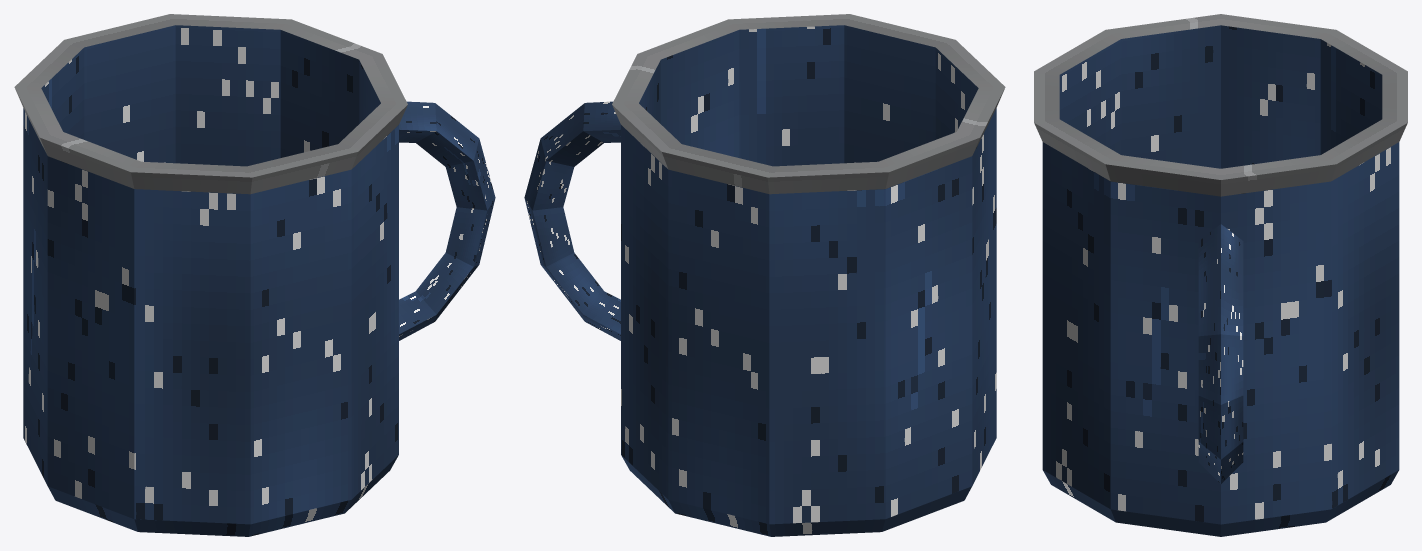
File: CAMP_Mug_01.glb
3 renders of one model, left to right at view 1: azimuth 30°, elevation 25°; view 2: azimuth 150°, elevation 25°; view 3: azimuth 270°, elevation 25°, orthographic.
Visible parts, largest first — view 1: CAMP_Mug_01; view 2: CAMP_Mug_01; view 3: CAMP_Mug_01.
Part boxes in pixels (x1,y1,x2,y2): CAMP_Mug_01: [14, 14, 495, 536]; CAMP_Mug_01: [524, 14, 1005, 536]; CAMP_Mug_01: [1034, 14, 1407, 536].
Bounding box in the file's own units: 0.117 × 0.09 × 0.0837.
Materials: 2 (2 with a texture image).
